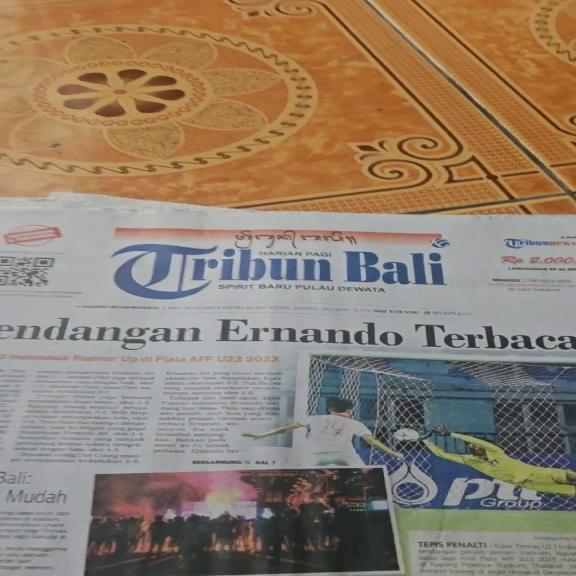Kertas: (1, 207, 569, 574)
